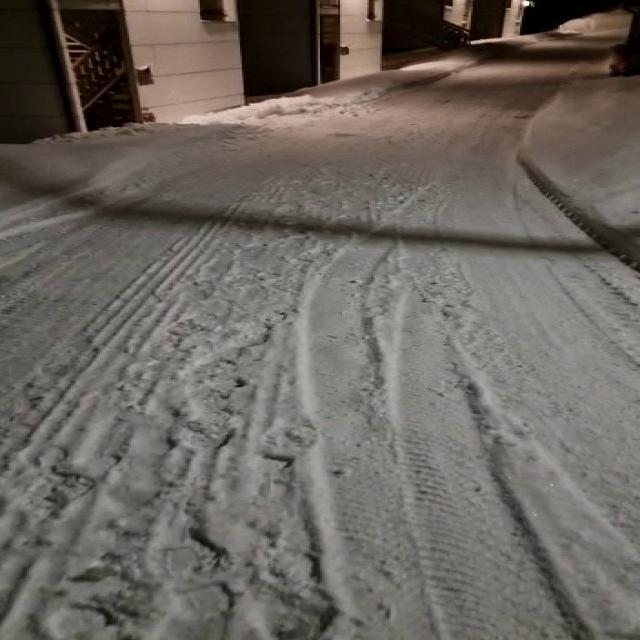path: (2, 18, 638, 640)
